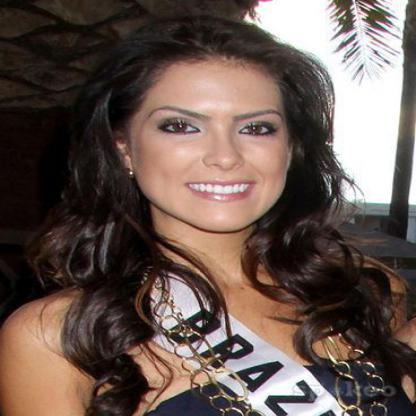long-hair: (38, 234, 376, 286)
